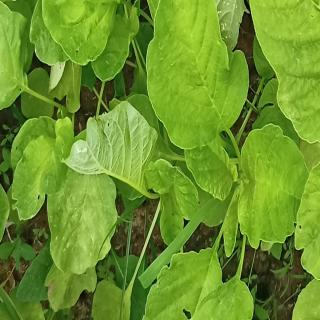karat_putih: (209, 0, 248, 47), (0, 0, 13, 117)
